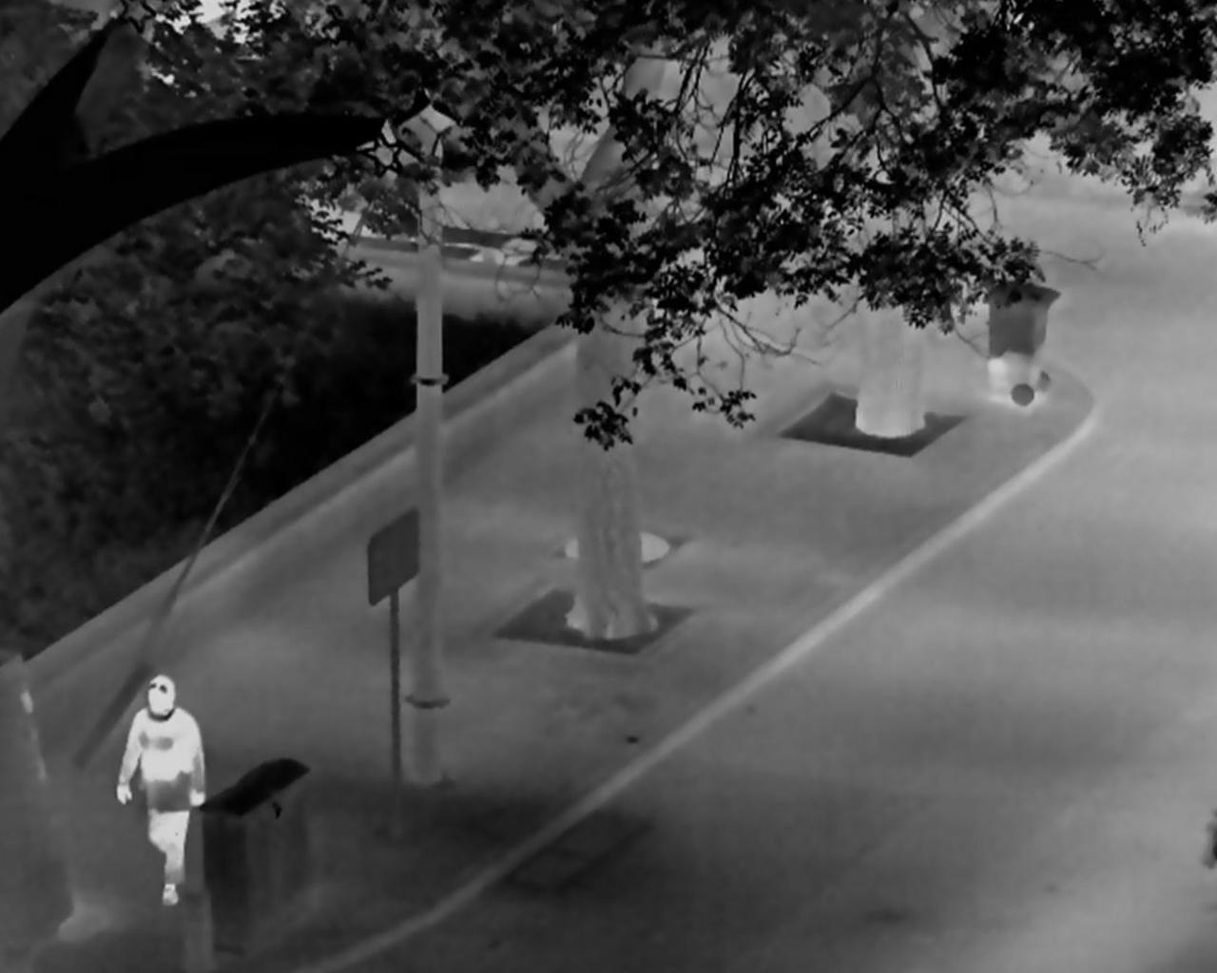person: (115, 674, 206, 906)
